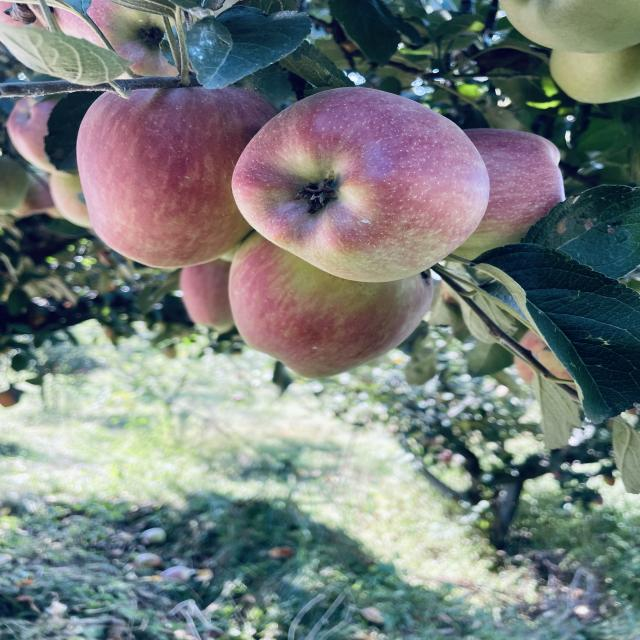Apple: (232, 86, 490, 282), (77, 86, 275, 269), (228, 232, 433, 378), (455, 129, 565, 260), (87, 0, 178, 76), (180, 259, 235, 332), (7, 98, 58, 174), (55, 10, 102, 45)
